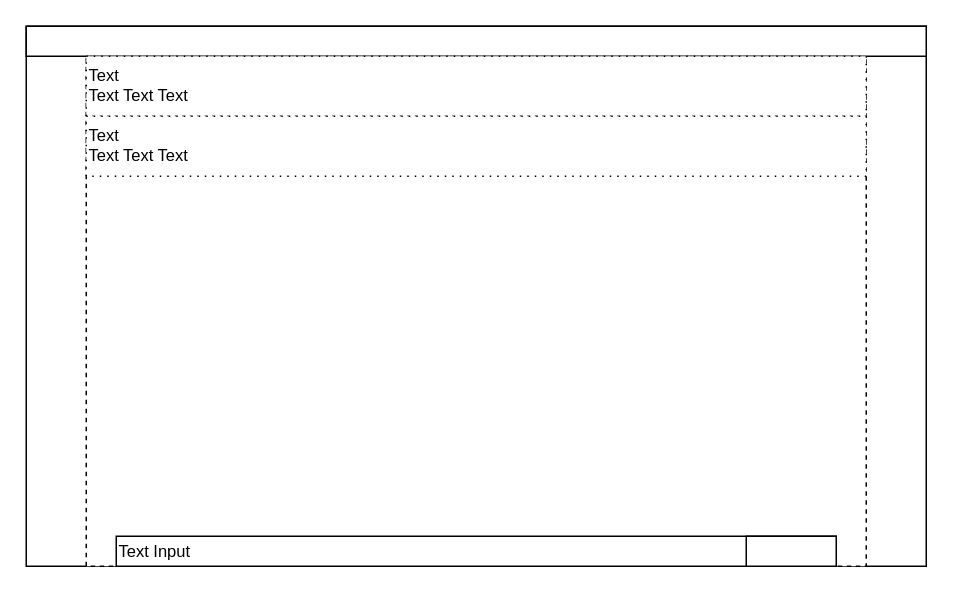
This 953x593 diagram has some shape labels left out. The shapes that lost their labels are listed below. From the top down, each one's centre as x and y in pixels, then its label:
At pixel 475 40: "Holiday Chat Bot".
At pixel 790 550: "Send".
